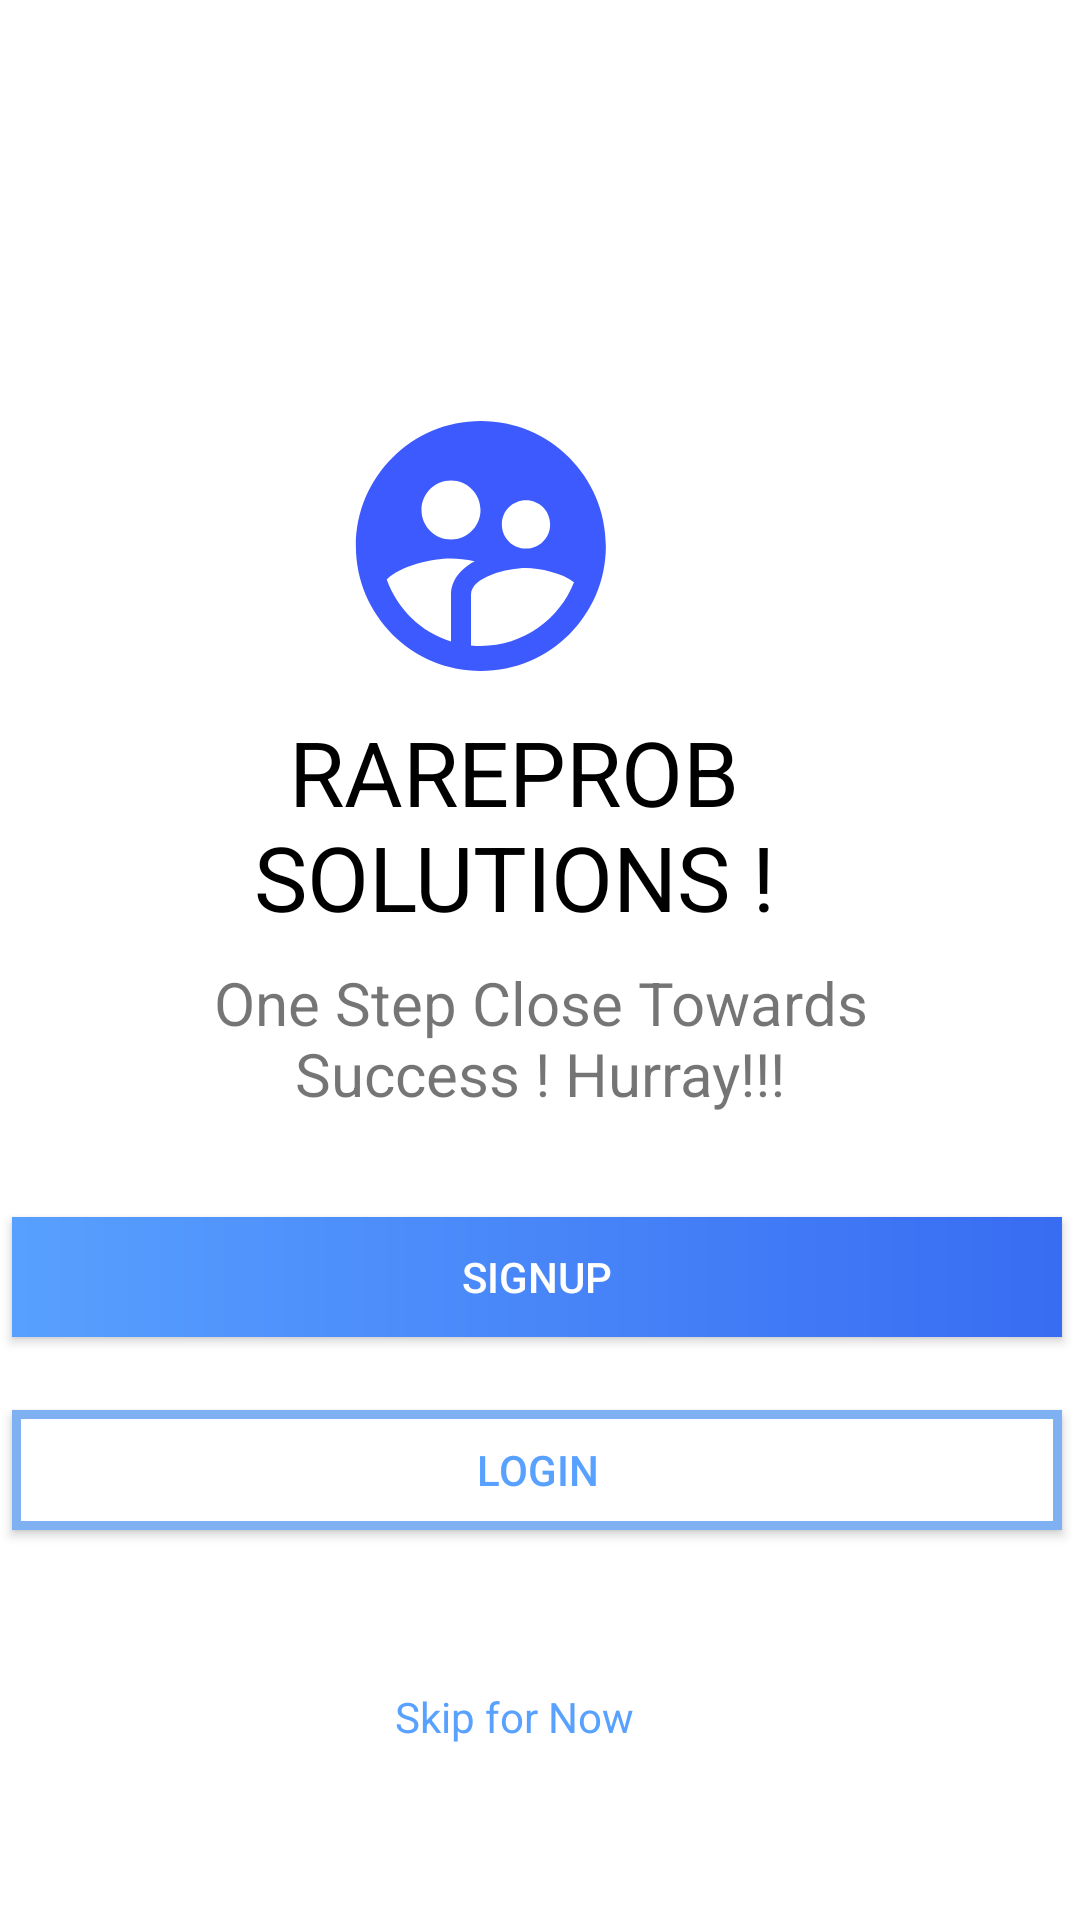

Where icons sit on this 1080*1920 app screen, as (x1, y1, x2, y2):
profile: (355, 421, 606, 671)
